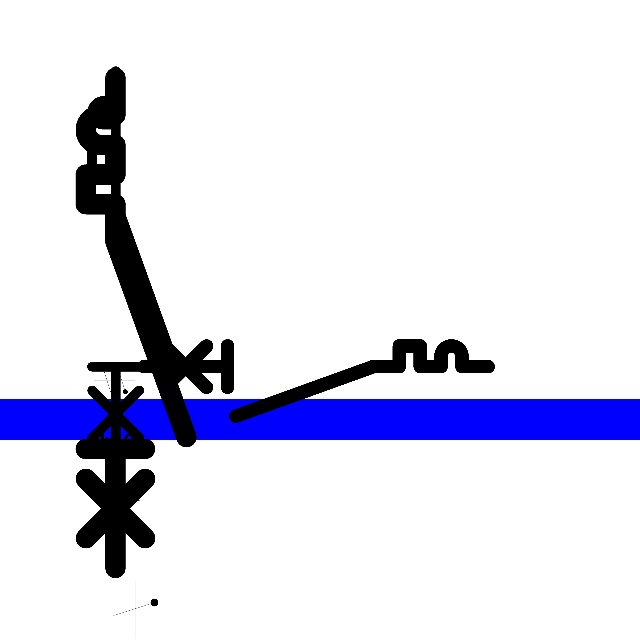interruptor_termomagnetico: (73, 65, 199, 581), (82, 61, 182, 471), (134, 337, 496, 425)
